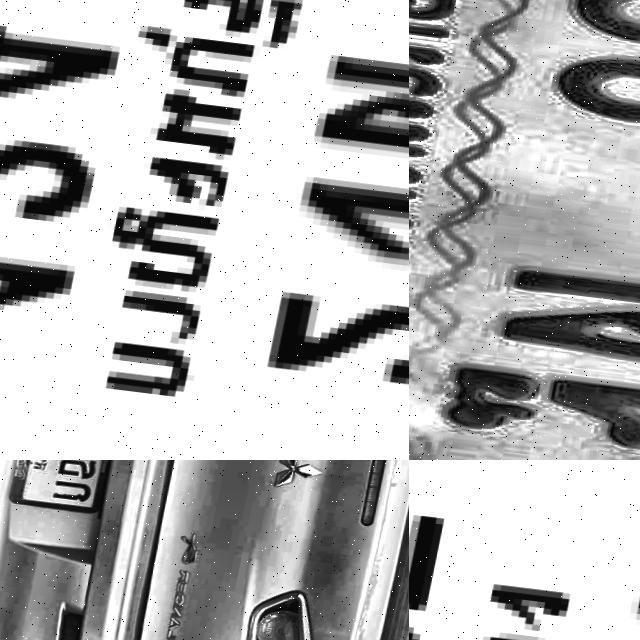license-plate: (0, 0, 409, 460), (409, 0, 640, 460), (409, 460, 640, 640), (14, 460, 139, 515)
